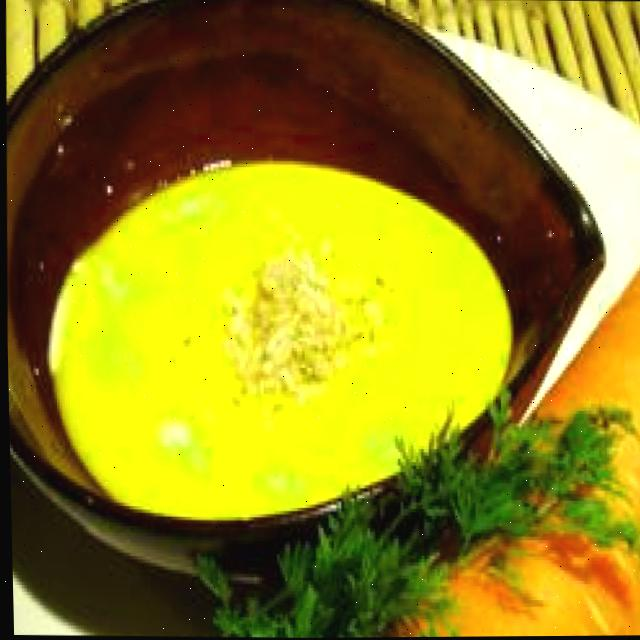汤锅炖物: (0, 0, 619, 401)
